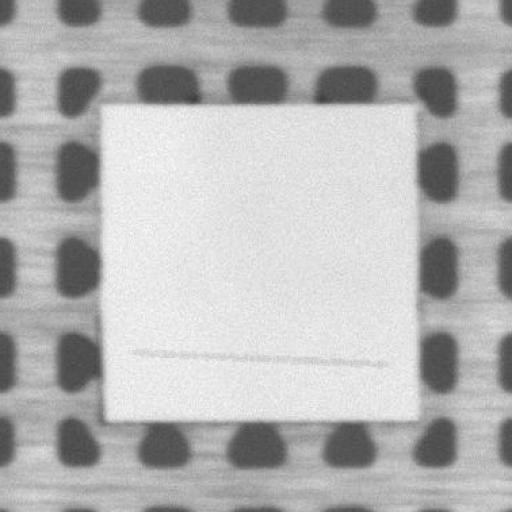DIE_CRACK: (132, 352, 385, 364)
